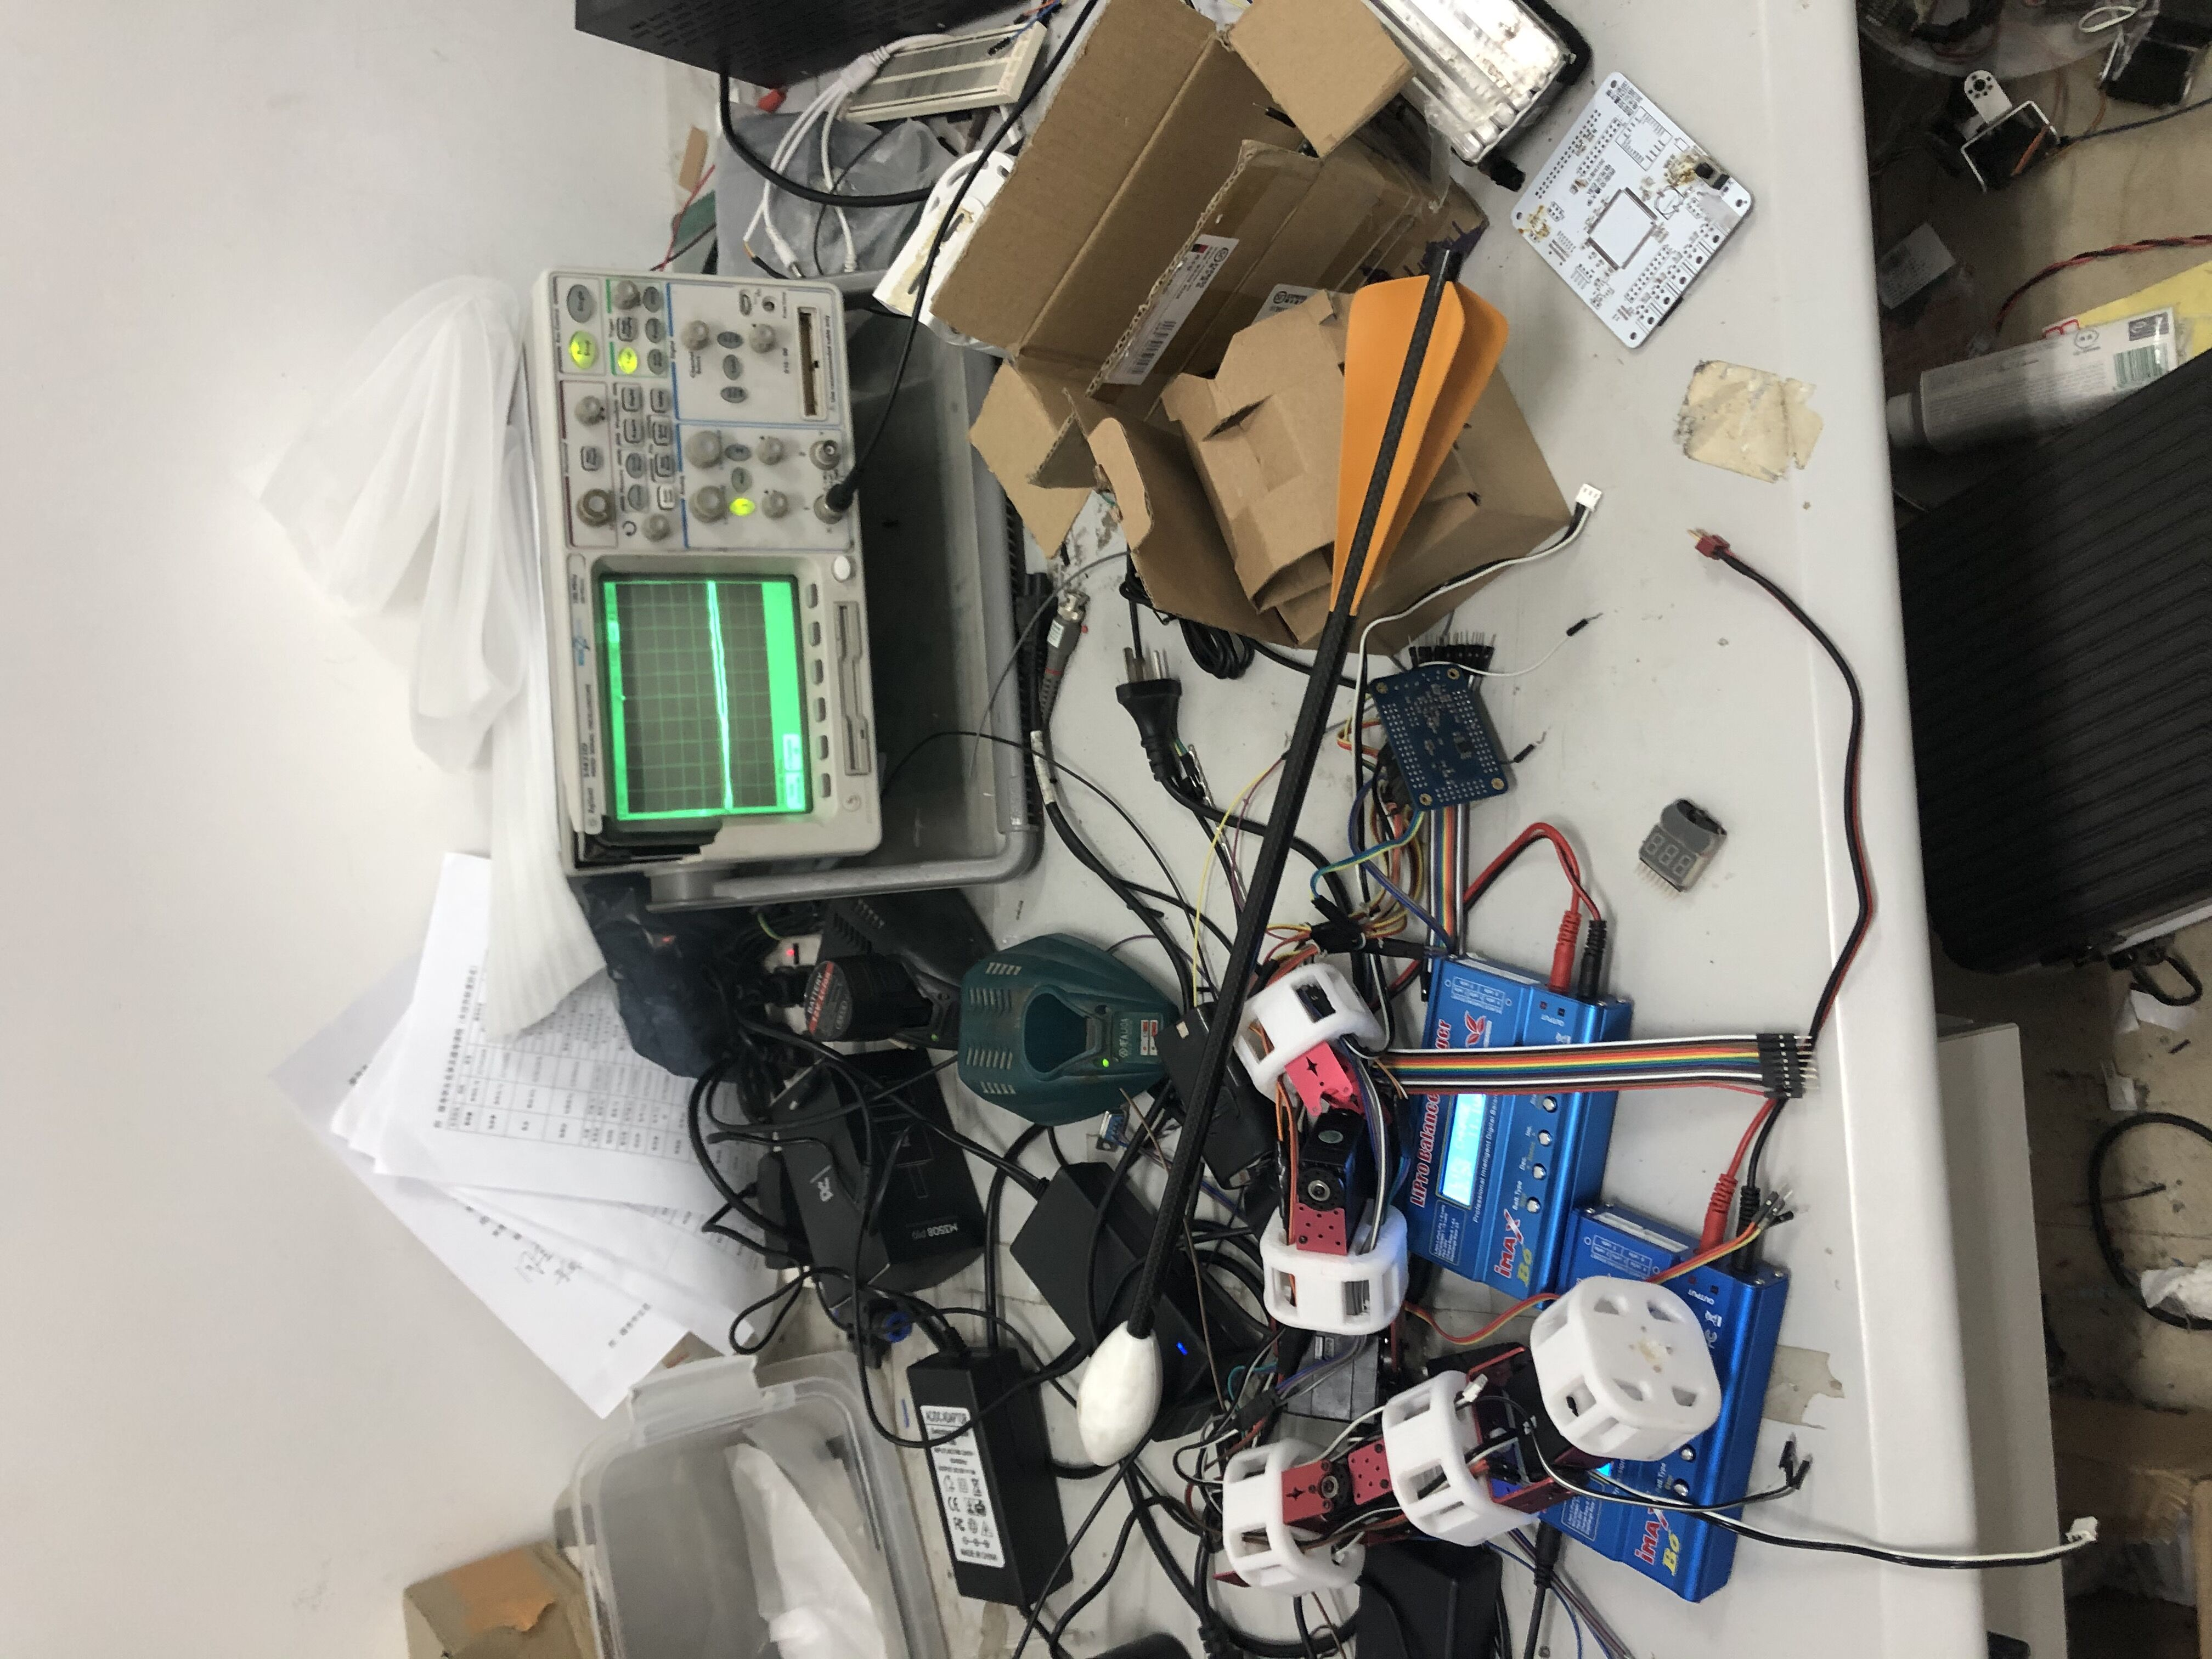arrow: (1075, 234, 1521, 1478)
arrowFront: (1073, 1317, 1163, 1471)
